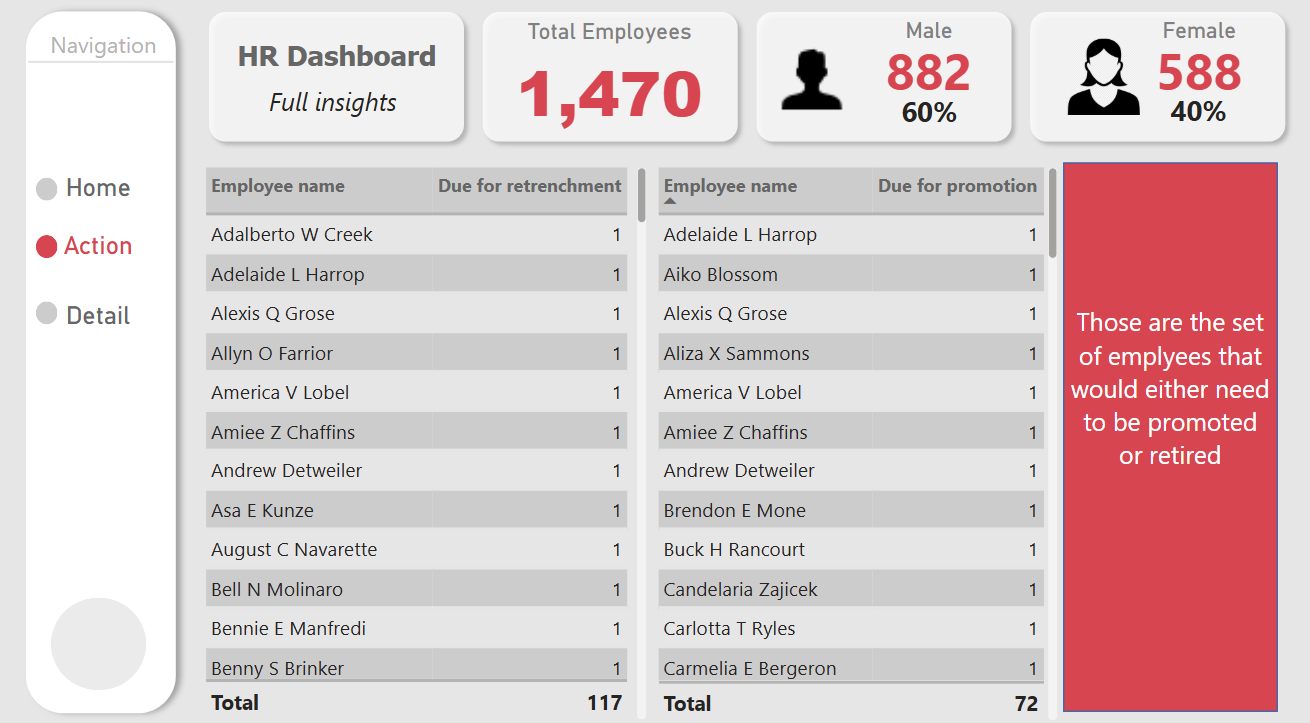

What the dashboard file says about the page in this screenshot:
{"tool":"powerbi","page":{"name":"Action","canvas":[1280,720],"ordinal":2},"visuals":[{"type":"shape","box":[1028.6,166.2,207,530.1],"z":0},{"type":"shape","box":[16.5,9.6,166.5,699.2],"z":1000},{"type":"shape","box":[195.4,12.4,264.3,143.1],"z":2000},{"type":"shape","box":[459.7,12.4,264.3,143.1],"z":3000},{"type":"shape","box":[724,12.4,264.3,143.1],"z":4000},{"type":"shape","box":[988.2,12.4,264.3,143.1],"z":5000},{"type":"textbox","box":[208.3,41.7,238.3,51.7],"z":6000},{"type":"textbox","box":[36.9,33,130.5,51.4],"z":7000},{"type":"textbox","box":[201.7,86.7,251.7,55],"z":8000},{"type":"card","title":"Total Employees","fields":{"Values":["All Measures.Total Emp"]},"box":[468,27.5,246.4,112.9],"z":10000},{"type":"card","title":"Male","fields":{"Values":["All Measures.Male"]},"box":[814.8,26.2,170.7,75.7],"z":11000},{"type":"card","fields":{"Values":["All Measures.Male %"]},"box":[834.1,90.8,132.1,55.1],"z":12000},{"type":"card","title":"Female","fields":{"Values":["All Measures.Female"]},"box":[1068.7,26.2,183.1,75.7],"z":13000},{"type":"card","fields":{"Values":["All Measures.Female %"]},"box":[1083.9,90.8,152.8,53.7],"z":14000},{"type":"image","box":[738.3,38.3,95,90],"z":15000},{"type":"image","box":[1028.3,41.7,80,83.3],"z":16000},{"type":"tableEx","fields":{"Values":["HR employee data.Emplyee name","All Measures.Due for retirment"]},"box":[195.4,166.5,436.3,542.3],"z":17000},{"type":"tableEx","fields":{"Values":["HR employee data.Emplyee name","All Measures.Due for promotion"]},"box":[631.7,166.5,396.4,543.7],"z":18000},{"type":"textbox","box":[1029.3,299.6,206.6,217.4],"z":19000},{"type":"shape","box":[36.9,300.7,21.1,22.4],"z":20000},{"type":"actionButton","title":"Detail","box":[27.7,300.7,139.8,58],"z":21000},{"type":"shape","box":[36.9,236,21.1,22.4],"z":22000},{"type":"actionButton","title":"Action","box":[27.7,233.4,139.8,65.9],"z":23000},{"type":"shape","box":[36.9,180.7,21.1,22.4],"z":24000},{"type":"actionButton","title":"Home","box":[27.7,176.7,139.8,56.7],"z":25000},{"type":"shape","box":[51.4,586.8,92.3,89.7],"z":26000},{"type":"shape","box":[30.2,61.6,140.1,15.7],"z":27000}]}

Visuals, with their boxes in screenshot pixels (x1, y1, x2, y2), scaled from the page's 1280x720 canvas onto the 1310x723 screenshot:
shape: crop(1053, 167, 1265, 699)
shape: crop(17, 10, 187, 712)
shape: crop(200, 12, 470, 156)
shape: crop(470, 12, 741, 156)
shape: crop(741, 12, 1011, 156)
shape: crop(1011, 12, 1282, 156)
textbox: crop(213, 42, 457, 94)
textbox: crop(38, 33, 171, 85)
textbox: crop(206, 87, 464, 142)
"Total Employees" card: crop(479, 28, 731, 141)
"Male" card: crop(834, 26, 1009, 102)
card - All Measures.Male %: crop(854, 91, 989, 147)
"Female" card: crop(1094, 26, 1281, 102)
card - All Measures.Female %: crop(1109, 91, 1266, 145)
image: crop(756, 38, 853, 129)
image: crop(1052, 42, 1134, 126)
tableEx - HR employee data.Emplyee name x All Measures.Due for retirment: crop(200, 167, 647, 712)
tableEx - HR employee data.Emplyee name x All Measures.Due for promotion: crop(647, 167, 1052, 713)
textbox: crop(1053, 301, 1265, 519)
shape: crop(38, 302, 59, 324)
"Detail" actionButton: crop(28, 302, 171, 360)
shape: crop(38, 237, 59, 259)
"Action" actionButton: crop(28, 234, 171, 301)
shape: crop(38, 181, 59, 204)
"Home" actionButton: crop(28, 177, 171, 234)
shape: crop(53, 589, 147, 679)
shape: crop(31, 62, 174, 78)
